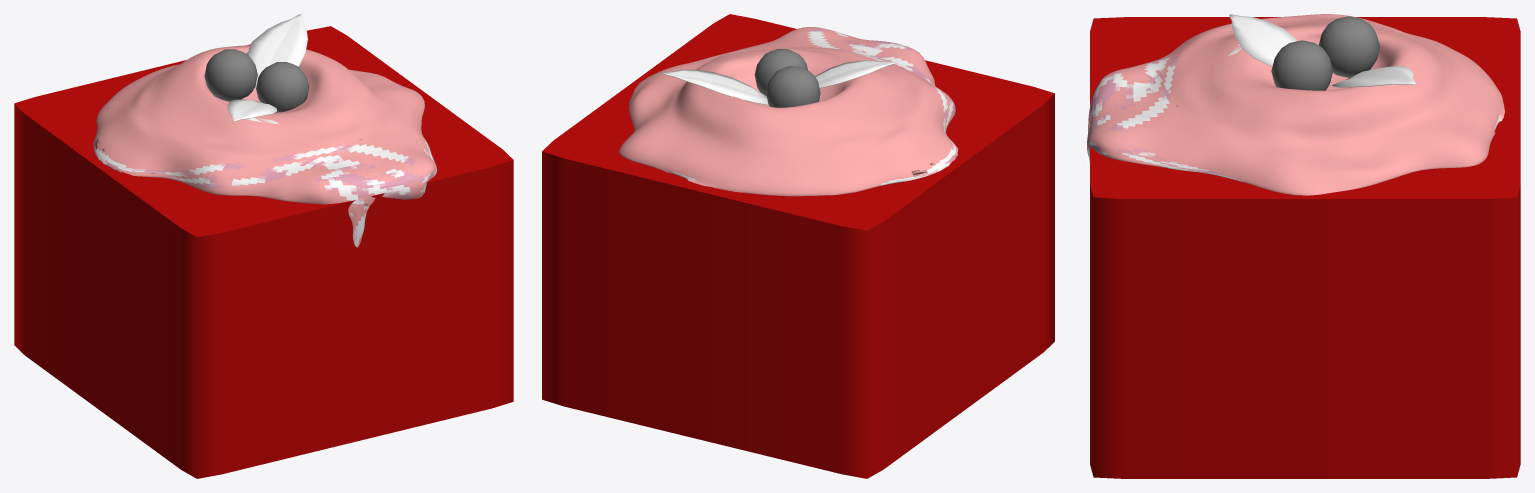
The model's file is Cake_07.fbx.
The picture shows the model from 3 angles, left to right: view 1: azimuth 30°, elevation 25°; view 2: azimuth 150°, elevation 25°; view 3: azimuth 270°, elevation 25°; orthographic projection. The views are drawn at different scales.
Visible parts, largest first — view 1: Cake_body003, Cake_body004, Plane002, Box003, Box004, Plane004; view 2: Cake_body003, Cake_body004, Box003, Plane002, Box004, Plane004; view 3: Cake_body003, Cake_body004, Box003, Box004, Plane004, Plane002.
Part boxes in pixels (x1=…): Cake_body003: x1=14, y1=26, x2=513, y2=478; Cake_body004: x1=93, y1=45, x2=437, y2=247; Plane002: x1=246, y1=14, x2=307, y2=88; Box003: x1=204, y1=49, x2=257, y2=101; Box004: x1=256, y1=62, x2=309, y2=112; Plane004: x1=227, y1=99, x2=277, y2=121; Cake_body003: x1=542, y1=14, x2=1054, y2=478; Cake_body004: x1=619, y1=27, x2=958, y2=196; Box003: x1=766, y1=66, x2=820, y2=107; Plane002: x1=662, y1=69, x2=768, y2=105; Box004: x1=754, y1=49, x2=807, y2=95; Plane004: x1=815, y1=60, x2=896, y2=88; Cake_body003: x1=1090, y1=17, x2=1520, y2=478; Cake_body004: x1=1087, y1=14, x2=1504, y2=195; Box003: x1=1319, y1=16, x2=1379, y2=77; Box004: x1=1271, y1=40, x2=1333, y2=90; Plane004: x1=1229, y1=14, x2=1296, y2=66; Plane002: x1=1329, y1=65, x2=1415, y2=87.
Size of the model in its own units: 38.76 by 35.87 by 39.36.
